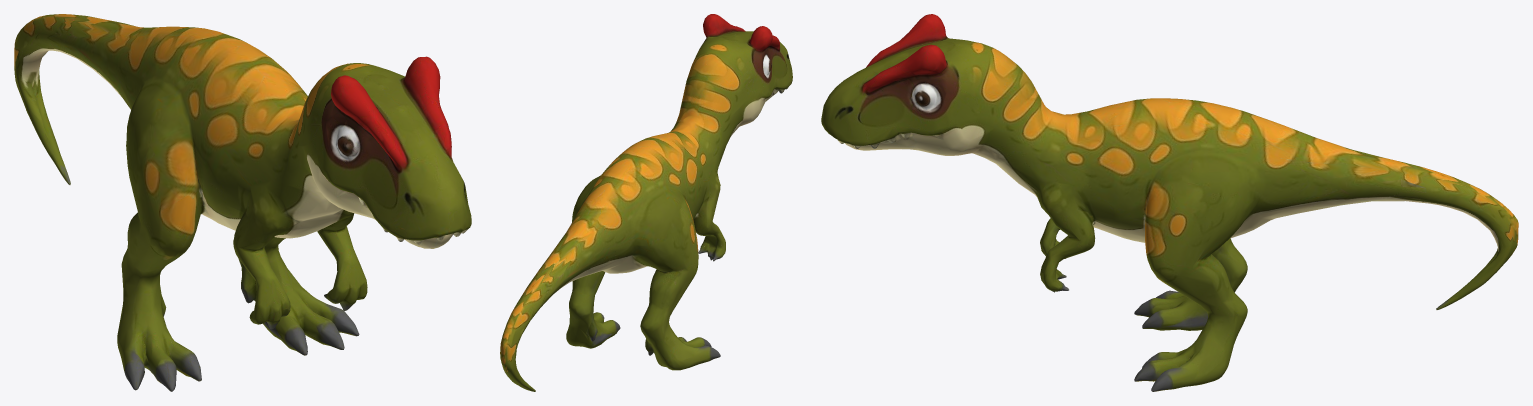
File: A-dino.glb
3 renders of one model, left to right at view 1: azimuth 30°, elevation 25°; view 2: azimuth 150°, elevation 25°; view 3: azimuth 270°, elevation 25°, orthographic. The views are drawn at different scales.
Size of the model in its own units: 0.556 by 0.9464 by 1.86.
Materials: 1 (1 with a texture image).
